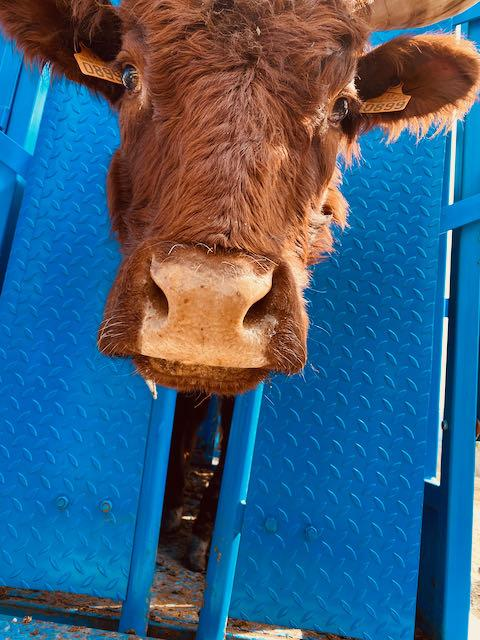muzzles: (86, 227, 317, 401)
